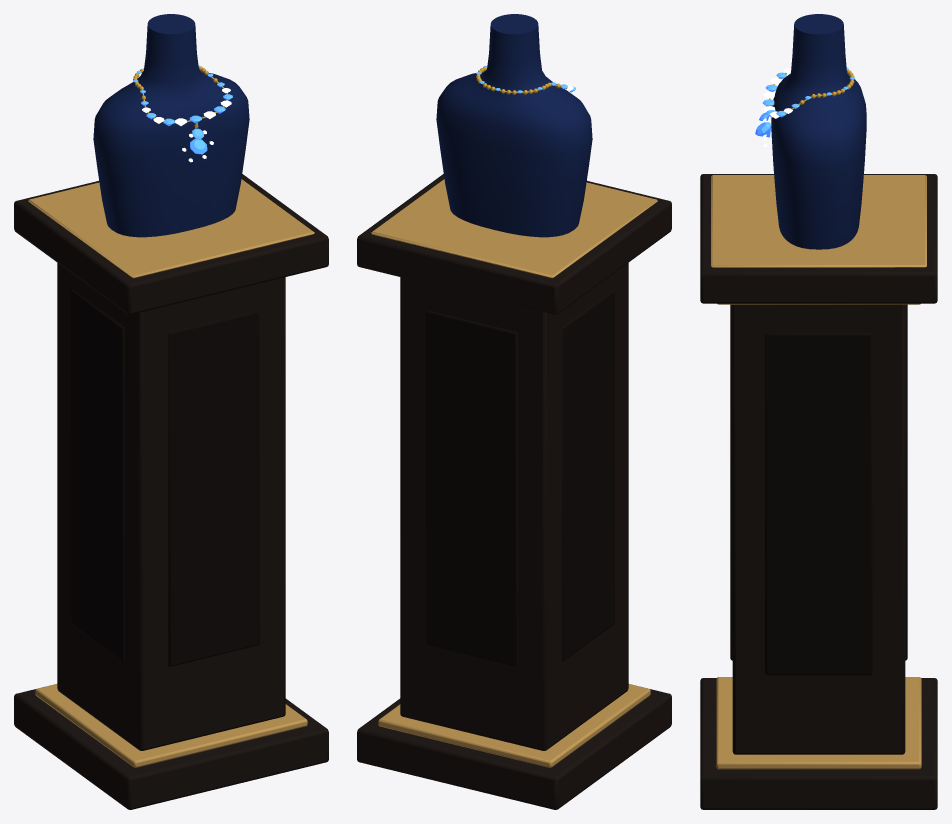
The model's file is necklace.glb.
3 views of the same model, side by side, from view 1: azimuth 30°, elevation 25°; view 2: azimuth 150°, elevation 25°; view 3: azimuth 270°, elevation 25° (orthographic). The views are drawn at different scales.
Parts seen in each view (by area): view 1: necklace_lacquer, necklace_lacquer_inset, necklace_velvet_navy, necklace_brass, necklace_glow_gem; view 2: necklace_lacquer, necklace_lacquer_inset, necklace_velvet_navy, necklace_brass; view 3: necklace_lacquer, necklace_lacquer_inset, necklace_brass, necklace_velvet_navy, necklace_glow_gem.
Boxes of the visible parts, x1,y1,x2,y2 form: necklace_lacquer: (14, 174, 328, 809); necklace_lacquer_inset: (71, 289, 259, 666); necklace_velvet_navy: (93, 14, 249, 237); necklace_brass: (28, 179, 314, 767); necklace_glow_gem: (133, 65, 232, 154); necklace_lacquer: (357, 174, 671, 809); necklace_lacquer_inset: (426, 289, 614, 666); necklace_velvet_navy: (436, 14, 592, 237); necklace_brass: (371, 179, 657, 767); necklace_lacquer: (700, 174, 937, 809); necklace_lacquer_inset: (730, 304, 907, 675); necklace_brass: (711, 175, 926, 769); necklace_velvet_navy: (771, 14, 866, 249); necklace_glow_gem: (755, 67, 855, 137).
Size of the model in its own units: 0.4399 by 1.51 by 0.4399.
